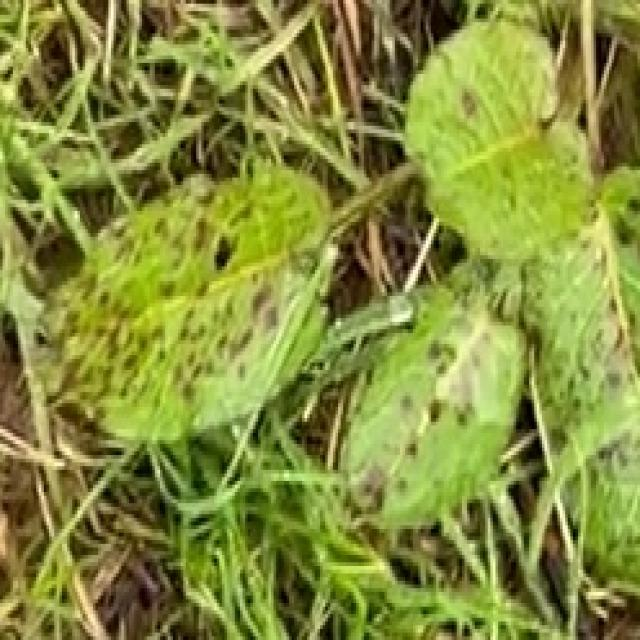organic waste: (51, 24, 640, 543)
